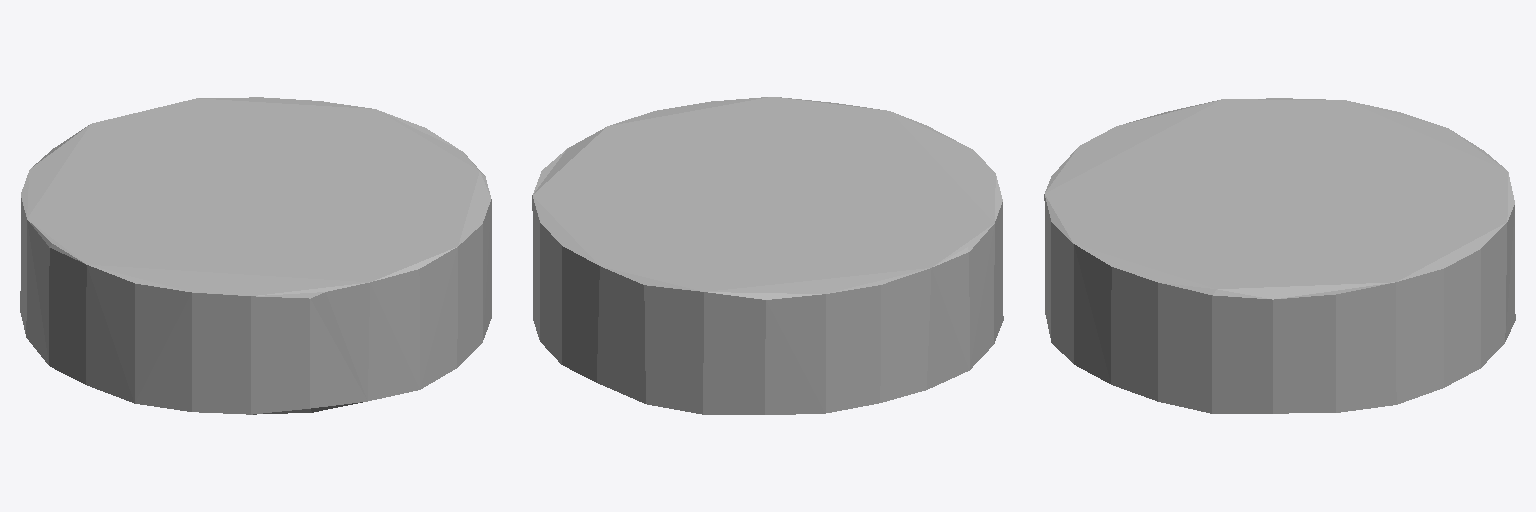
The robot description file, URDF, robot "root":
<robot name="root">
  <link name="link_coacd_convex_piece_0">
    <inertial>
      <mass value="0.1"/>
      <origin xyz="0 0 0" rpy="0 0 0"/>
      <inertia ixx="3.49E-01" ixy="3.10E-06" ixz="-5.70E-08" iyy="3.49E-01" iyz="-2.55E-08" izz="6.27E-01"/>
    </inertial>
    <visual>
      <origin xyz="0 0 0" rpy="0 0 0"/>
      <geometry>
        <mesh filename="decomposed_new1.obj" scale="1.0000E+00 1.0000E+00 1.0000E+00"/>
      </geometry>
      <material name="">
        <color rgba="7.50E-01 7.50E-01 7.50E-01 1"/>
      </material>
    </visual>
    <collision>
      <origin xyz="0 0 0" rpy="0 0 0"/>
      <geometry>
        <mesh filename="decomposed_new1.obj" scale="1.0000E+00 1.0000E+00 1.0000E+00"/>
      </geometry>
    </collision>
  </link>
</robot>

--- Render facts (derived) ---
Views: 3 orthographic renders of the robot side by side, from view 1: azimuth 30°, elevation 25°; view 2: azimuth 150°, elevation 25°; view 3: azimuth 270°, elevation 25°.
Model root with 1 links and 0 joints (none), rooted at link_coacd_convex_piece_0, posed all joints at 0.
Links seen in each view (by area): view 1: link_coacd_convex_piece_0; view 2: link_coacd_convex_piece_0; view 3: link_coacd_convex_piece_0.
Link boxes in pixels (x1,y1,x2,y2): link_coacd_convex_piece_0: (20, 97, 491, 414); link_coacd_convex_piece_0: (532, 97, 1003, 414); link_coacd_convex_piece_0: (1044, 98, 1515, 413).
Size in the robot's own frame: 0.1322 by 0.1323 by 0.0381 metres.
Meshes: 1 distinct files referenced, 1 mesh visuals loaded (1 OBJ).
